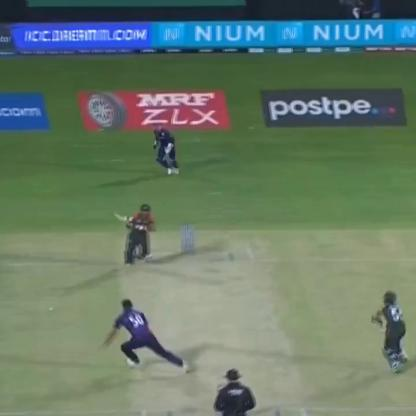ball: (44, 300, 56, 313)
bat: (108, 208, 140, 234)
pitch: (105, 236, 316, 416)
